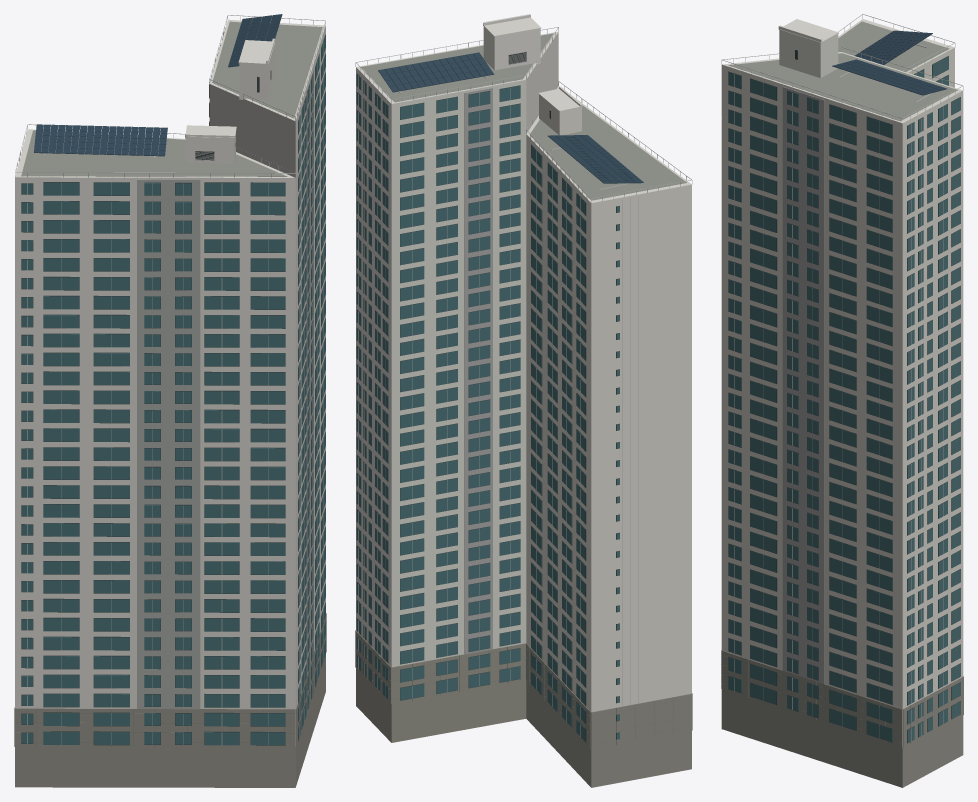
Rendered from bespoke-maple-xi-209.glb.
3 views of the same model, side by side, from view 1: azimuth 30°, elevation 25°; view 2: azimuth 150°, elevation 25°; view 3: azimuth 270°, elevation 25° (orthographic). The views are drawn at different scales.
Parts seen in each view (by area): view 1: 209_e5_window_glass, 209_wing_0_observed_massing, 209_e5_paint_zone_warm, 209_e5_individually_sized_reveals, 209_unverified_solid_ground_mass, 209_wing_1_observed_massing, 209_e4_window_glass, 209_e5_lower_stone_field, 209_wing_0_service_roof, 209_e4_individually_sized_reveals, 209_wing_1_service_roof, 209_individual_roof_panel_array_0 (+12 smaller); view 2: 209_wing_0_observed_massing, 209_wing_1_observed_massing, 209_e2_window_glass, 209_e1_window_glass, 209_unverified_solid_ground_mass, 209_e3_window_glass, 209_e2_paint_zone_warm, 209_e2_individually_sized_reveals, 209_wing_0_service_roof, 209_e0_lower_stone_field, 209_e1_individually_sized_reveals, 209_e3_individually_sized_reveals (+18 smaller); view 3: 209_wing_1_observed_massing, 209_e4_window_glass, 209_e3_window_glass, 209_e4_paint_zone_warm, 209_e4_individually_sized_reveals, 209_unverified_solid_ground_mass, 209_wing_1_service_roof, 209_e4_lower_stone_field, 209_e3_individually_sized_reveals, 209_e4_window_center_frames, 209_roof_service_volume_1, 209_wing_0_service_roof (+9 smaller).
Boxes of the visible parts, <box> form: 209_e5_window_glass: <box>21,182,285,745</box>; 209_wing_0_observed_massing: <box>15,178,295,708</box>; 209_e5_paint_zone_warm: <box>137,179,200,709</box>; 209_e5_individually_sized_reveals: <box>21,182,285,745</box>; 209_unverified_solid_ground_mass: <box>15,654,325,787</box>; 209_wing_1_observed_massing: <box>209,27,325,746</box>; 209_e4_window_glass: <box>298,35,325,740</box>; 209_e5_lower_stone_field: <box>15,708,295,747</box>; 209_wing_0_service_roof: <box>21,130,287,176</box>; 209_e4_individually_sized_reveals: <box>298,34,325,740</box>; 209_wing_1_service_roof: <box>212,21,322,118</box>; 209_individual_roof_panel_array_0: <box>34,124,167,156</box>; 209_wing_0_observed_massing: <box>526,136,691,748</box>; 209_wing_1_observed_massing: <box>356,33,558,703</box>; 209_e2_window_glass: <box>400,85,520,700</box>; 209_e1_window_glass: <box>531,145,585,741</box>; 209_unverified_solid_ground_mass: <box>356,668,691,787</box>; 209_e3_window_glass: <box>356,74,388,699</box>; 209_e2_paint_zone_warm: <box>464,88,492,654</box>; 209_e2_individually_sized_reveals: <box>400,85,520,700</box>; 209_wing_0_service_roof: <box>529,105,686,200</box>; 209_e0_lower_stone_field: <box>591,693,692,749</box>; 209_e1_individually_sized_reveals: <box>531,144,586,742</box>; 209_e3_individually_sized_reveals: <box>357,73,388,699</box>; 209_wing_1_observed_massing: <box>721,66,963,747</box>; 209_e4_window_glass: <box>728,72,892,742</box>; 209_e3_window_glass: <box>907,97,960,742</box>; 209_e4_paint_zone_warm: <box>782,86,824,683</box>; 209_e4_individually_sized_reveals: <box>728,71,892,742</box>; 209_unverified_solid_ground_mass: <box>721,689,963,787</box>; 209_wing_1_service_roof: <box>729,53,957,121</box>; 209_e4_lower_stone_field: <box>721,650,902,747</box>; 209_e3_individually_sized_reveals: <box>907,97,960,743</box>; 209_e4_window_center_frames: <box>734,74,879,737</box>; 209_roof_service_volume_1: <box>779,30,838,78</box>; 209_wing_0_service_roof: <box>838,21,949,72</box>.
Bounding box in the file's own units: 56.72 × 115 × 36.06.
